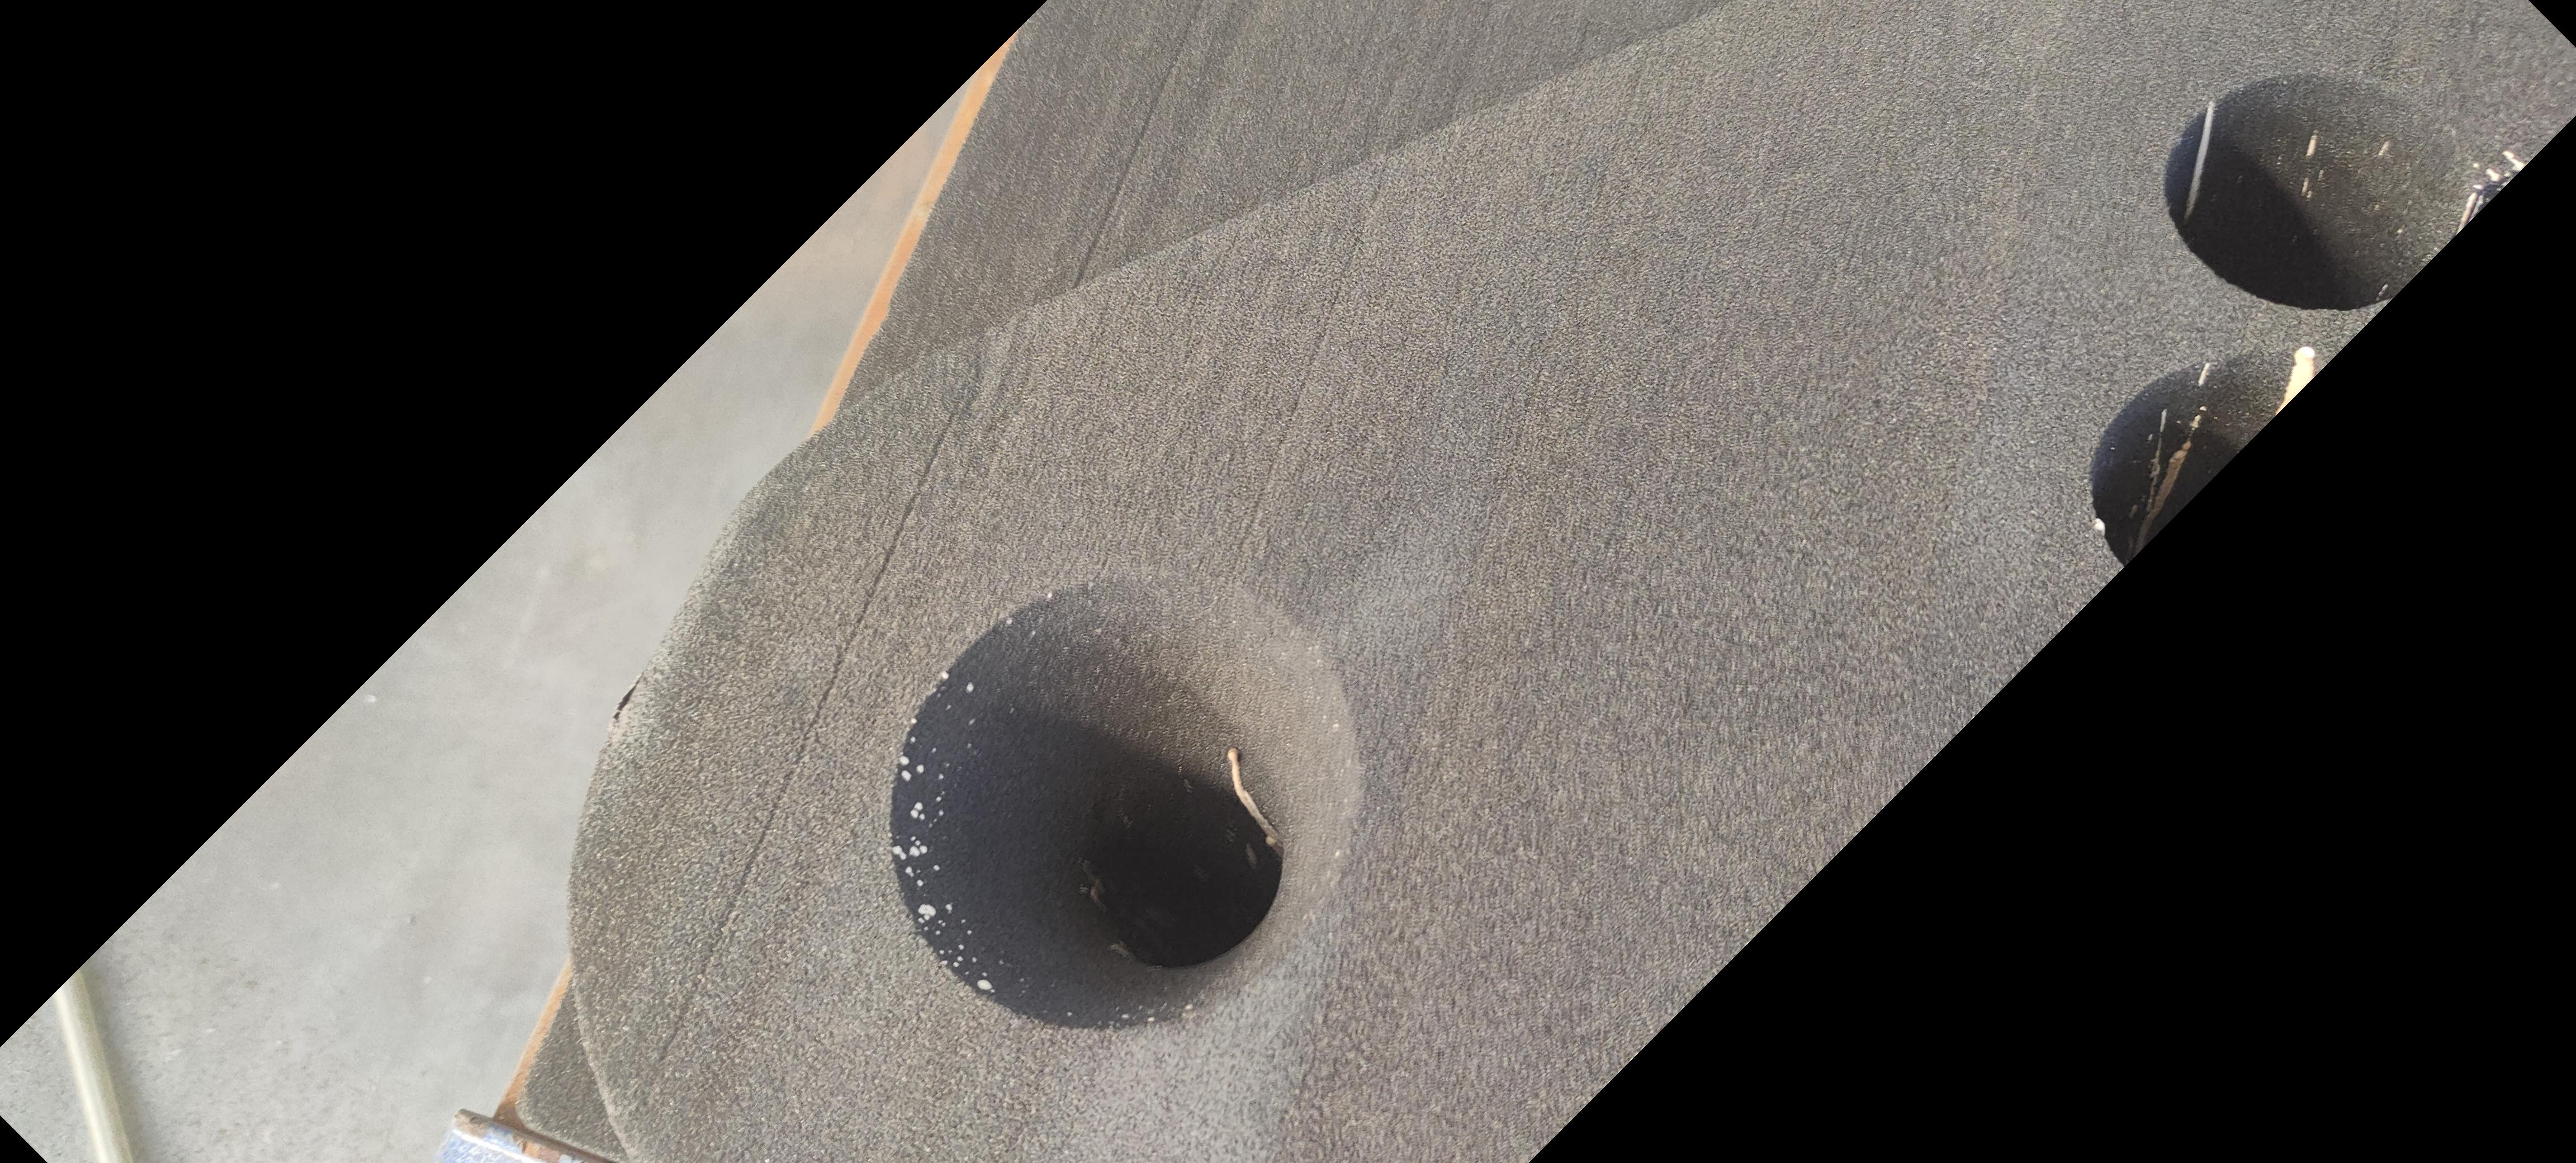pouring hole: (887, 570, 1359, 1033)
